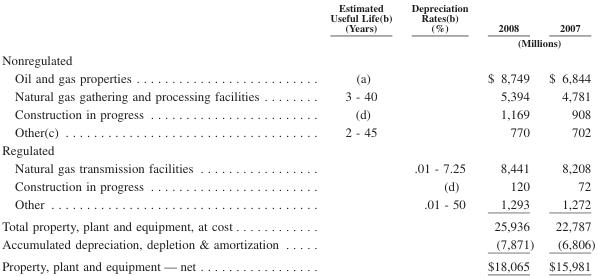table: (1, 1, 594, 273)
table column: (1, 1, 303, 273), (303, 1, 401, 273), (401, 1, 477, 273), (477, 1, 540, 273), (540, 1, 594, 273)
table column header: (1, 1, 594, 50)
table projected row header: (1, 50, 594, 68), (1, 140, 594, 158)
table row: (1, 1, 594, 34), (1, 195, 594, 215), (1, 215, 594, 235), (1, 235, 594, 255), (1, 176, 594, 195), (1, 50, 594, 68), (1, 68, 594, 86), (1, 86, 594, 104), (1, 104, 594, 122), (1, 122, 594, 140), (1, 140, 594, 158), (1, 158, 594, 176), (1, 255, 594, 273), (1, 34, 594, 50)
table spanning cell: (303, 1, 401, 50), (401, 1, 477, 50), (477, 34, 594, 50)
